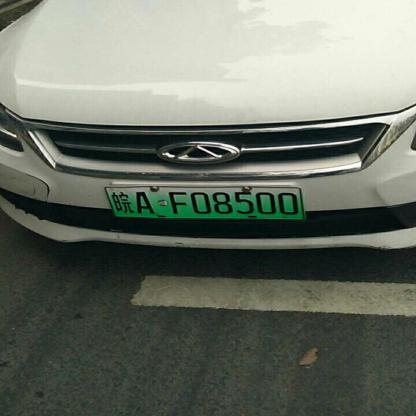lp: (104, 187, 306, 219)
